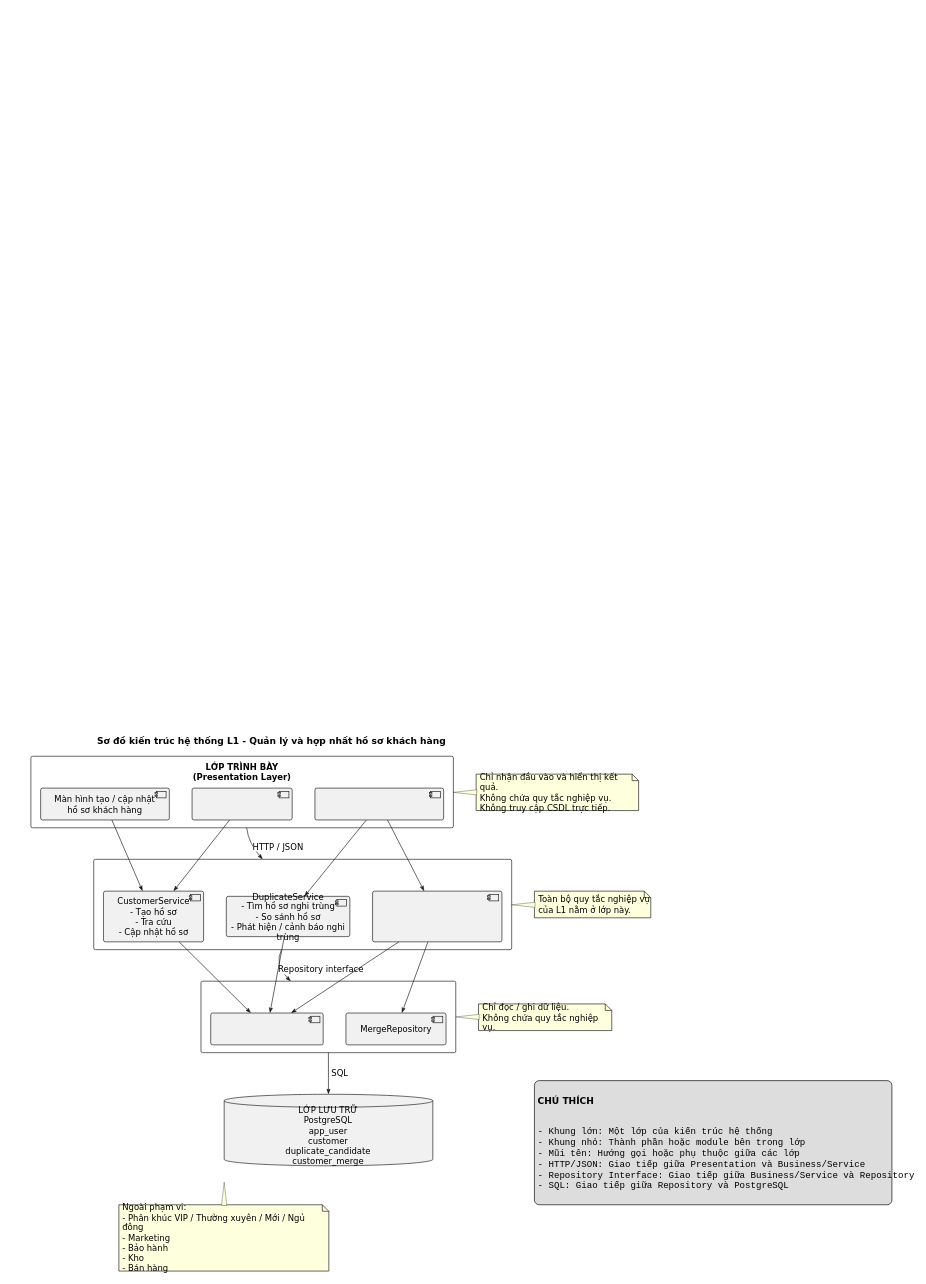
Image size: 926x1284. Some labels were removed from this diagram. The shapes that lost their labels are listed below. From the top down, each one's box as (x1, y1, x2, y2) in pixels, then its label:
(191, 787, 292, 820): Màn hình tra cứu khách hàng
(314, 787, 444, 820): Màn hình so sánh / gộp hồ sơ trùng
(93, 859, 512, 950): LỚP NGHIỆP VỤ (Business / Service Layer)
(372, 890, 502, 942): MergeService - Kiểm tra điều kiện gộp - Hợp nhất hồ sơ - Xử lý transaction
(210, 1012, 323, 1045): CustomerRepository
(200, 981, 456, 1053): LỚP TRUY CẬP DỮ LIỆU (Repository Layer)
